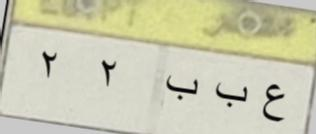2: (31, 43, 62, 90), (94, 55, 124, 96)
ain: (257, 79, 294, 131)
baa: (162, 70, 204, 108), (212, 81, 252, 115)
